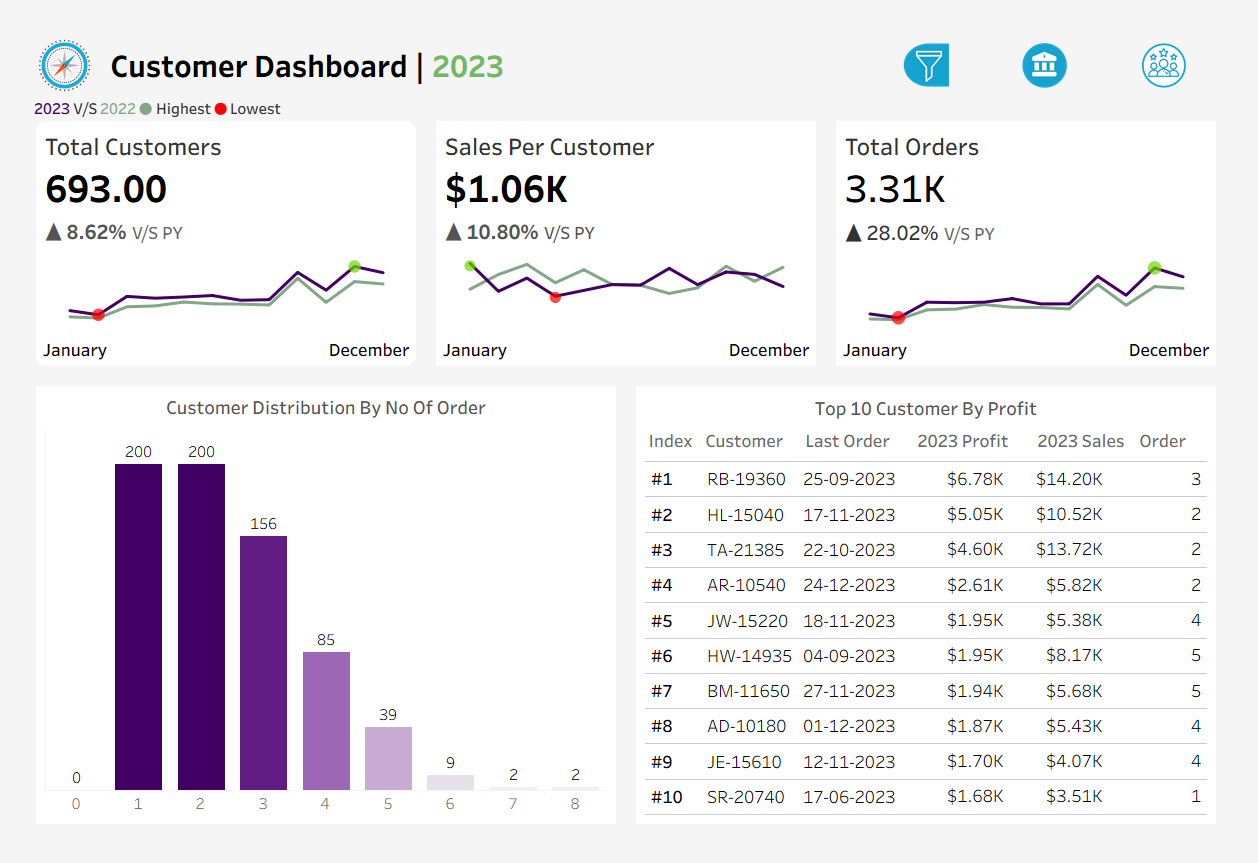

What the dashboard file says about the page in this screenshot:
{"tool":"tableau","page":{"name":"Customer Dashboard ","canvas":[1200,800],"ordinal":0},"visuals":[{"type":"image","param":"Image/Icon - Logo.png","box":[0,0,77,62]},{"type":"text","box":[77,0,759,62]},{"type":"dashboard-object","box":[840,4,119,54]},{"type":"dashboard-object","box":[959,4,119,54]},{"type":"dashboard-object","box":[1078,4,118,54]},{"type":"blank","box":[946,6,245,36]},{"type":"text","box":[946,42,245,35]},{"type":"worksheet","title":"KPI Legend","mark":"Automatic","box":[0,62,1200,25]},{"type":"parameter","param":"[Parameters].[Parameter 1]","box":[946,77,245,56]},{"type":"worksheet","title":"KPI Customers","mark":"Line","rows":["Calculation_1176217489817608"],"cols":["Order Date"],"box":[0,87,400,255]},{"type":"worksheet","title":"KPI Sales Per Customer","mark":"Automatic","rows":["Calculation_0319972822405125"],"cols":["Order Date"],"box":[400,87,400,255]},{"type":"worksheet","title":"KPI Orders","mark":"Automatic","rows":["Calculation_0319972827373579"],"cols":["Order Date"],"box":[800,87,400,255]},{"type":"blank","box":[946,133,245,55]},{"type":"text","box":[946,188,245,35]},{"type":"filter","title":"KPI Customers","param":"[federated.1ie00hv16txxj60ziol7k1jeislt].[none:Category:nk]","box":[946,223,245,63]},{"type":"filter","title":"KPI Customers","param":"[federated.1ie00hv16txxj60ziol7k1jeislt].[none:Sub-Category:nk]","box":[946,286,245,85]},{"type":"text","box":[15,357,570,32]},{"type":"text","box":[615,357,570,33]},{"type":"blank","box":[946,371,245,64]},{"type":"worksheet","title":"No of orders","mark":"Automatic","rows":["Calculation_1176217469812736"],"cols":["Calculation_0319972848095245"],"box":[15,389,570,396]},{"type":"text","box":[615,390,57,33]},{"type":"text","box":[672,390,100,33]},{"type":"text","box":[772,390,112,33]},{"type":"text","box":[884,390,120,33]},{"type":"text","box":[1004,390,102,33]},{"type":"text","box":[1106,390,79,33]},{"type":"worksheet","title":"Top Customers","mark":"Automatic","rows":["Calculation_0319972857720850","Customer ID","Order Date"],"box":[615,423,570,362]},{"type":"text","box":[946,435,245,35]},{"type":"filter","title":"KPI Customers","param":"[federated.1ie00hv16txxj60ziol7k1jeislt].[none:City:nk]","box":[946,470,245,63]},{"type":"filter","title":"KPI Customers","param":"[federated.1ie00hv16txxj60ziol7k1jeislt].[none:Region:nk]","box":[946,533,245,63]},{"type":"filter","title":"KPI Customers","param":"[federated.1ie00hv16txxj60ziol7k1jeislt].[none:State:nk]","box":[946,596,245,63]}]}

Visuals, with their boxes in screenshot pixels (x1, y1, x2, y2), scaled from the page's 1200x800 canvas onto the 1258x863 screenshot:
image: locate(0, 0, 81, 67)
text: locate(81, 0, 876, 67)
dashboard-object: locate(881, 4, 1005, 63)
dashboard-object: locate(1005, 4, 1130, 63)
dashboard-object: locate(1130, 4, 1254, 63)
blank: locate(992, 6, 1249, 45)
text: locate(992, 45, 1249, 83)
"KPI Legend" worksheet: locate(0, 67, 1257, 94)
parameter: locate(992, 83, 1249, 143)
"KPI Customers" worksheet (Line marks): locate(0, 94, 419, 369)
"KPI Sales Per Customer" worksheet: locate(419, 94, 839, 369)
"KPI Orders" worksheet: locate(839, 94, 1257, 369)
blank: locate(992, 143, 1249, 203)
text: locate(992, 203, 1249, 241)
"KPI Customers" filter: locate(992, 241, 1249, 309)
"KPI Customers" filter: locate(992, 309, 1249, 400)
text: locate(16, 385, 613, 420)
text: locate(645, 385, 1242, 421)
blank: locate(992, 400, 1249, 469)
"No of orders" worksheet: locate(16, 420, 613, 847)
text: locate(645, 421, 704, 456)
text: locate(704, 421, 809, 456)
text: locate(809, 421, 927, 456)
text: locate(927, 421, 1053, 456)
text: locate(1053, 421, 1159, 456)
text: locate(1159, 421, 1242, 456)
"Top Customers" worksheet: locate(645, 456, 1242, 847)
text: locate(992, 469, 1249, 507)
"KPI Customers" filter: locate(992, 507, 1249, 575)
"KPI Customers" filter: locate(992, 575, 1249, 643)
"KPI Customers" filter: locate(992, 643, 1249, 711)
